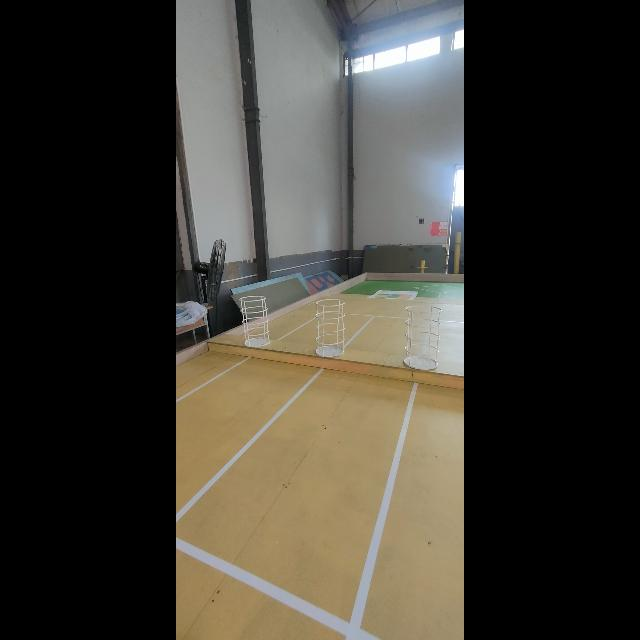S: (403, 305, 442, 371), (238, 296, 272, 348), (316, 299, 346, 357)
